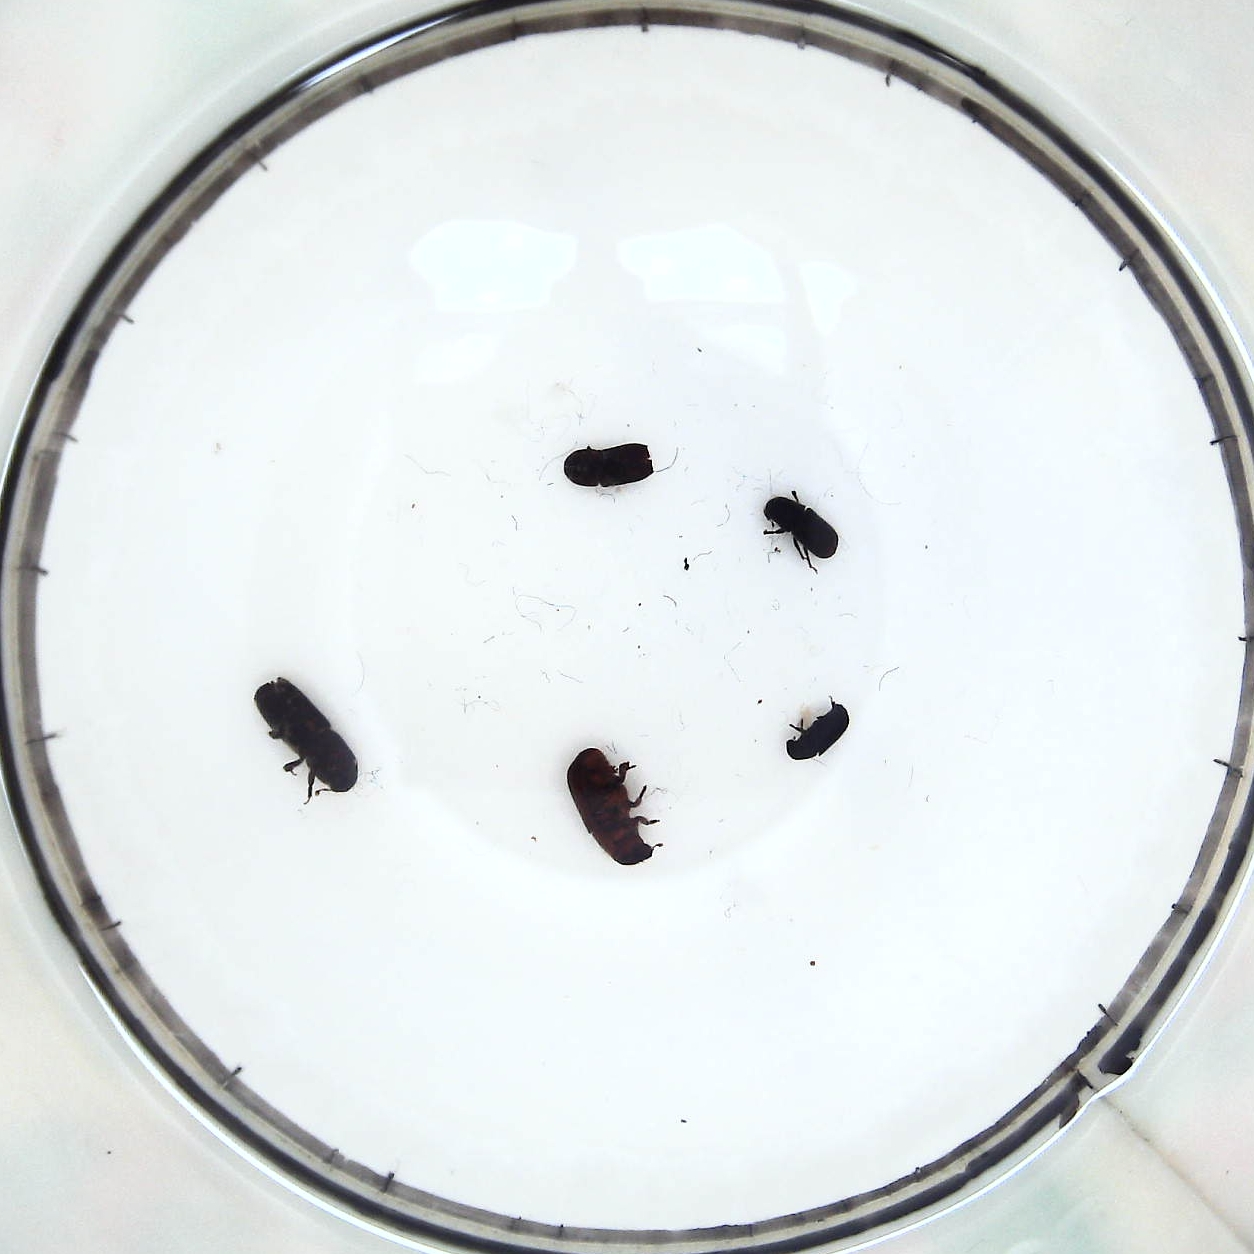Boerner: (254, 676, 359, 802)
Leconte: (570, 745, 661, 873)
Linnaeus: (564, 441, 658, 500)
armandi: (766, 500, 837, 567)
coleoptera: (784, 699, 849, 760)
